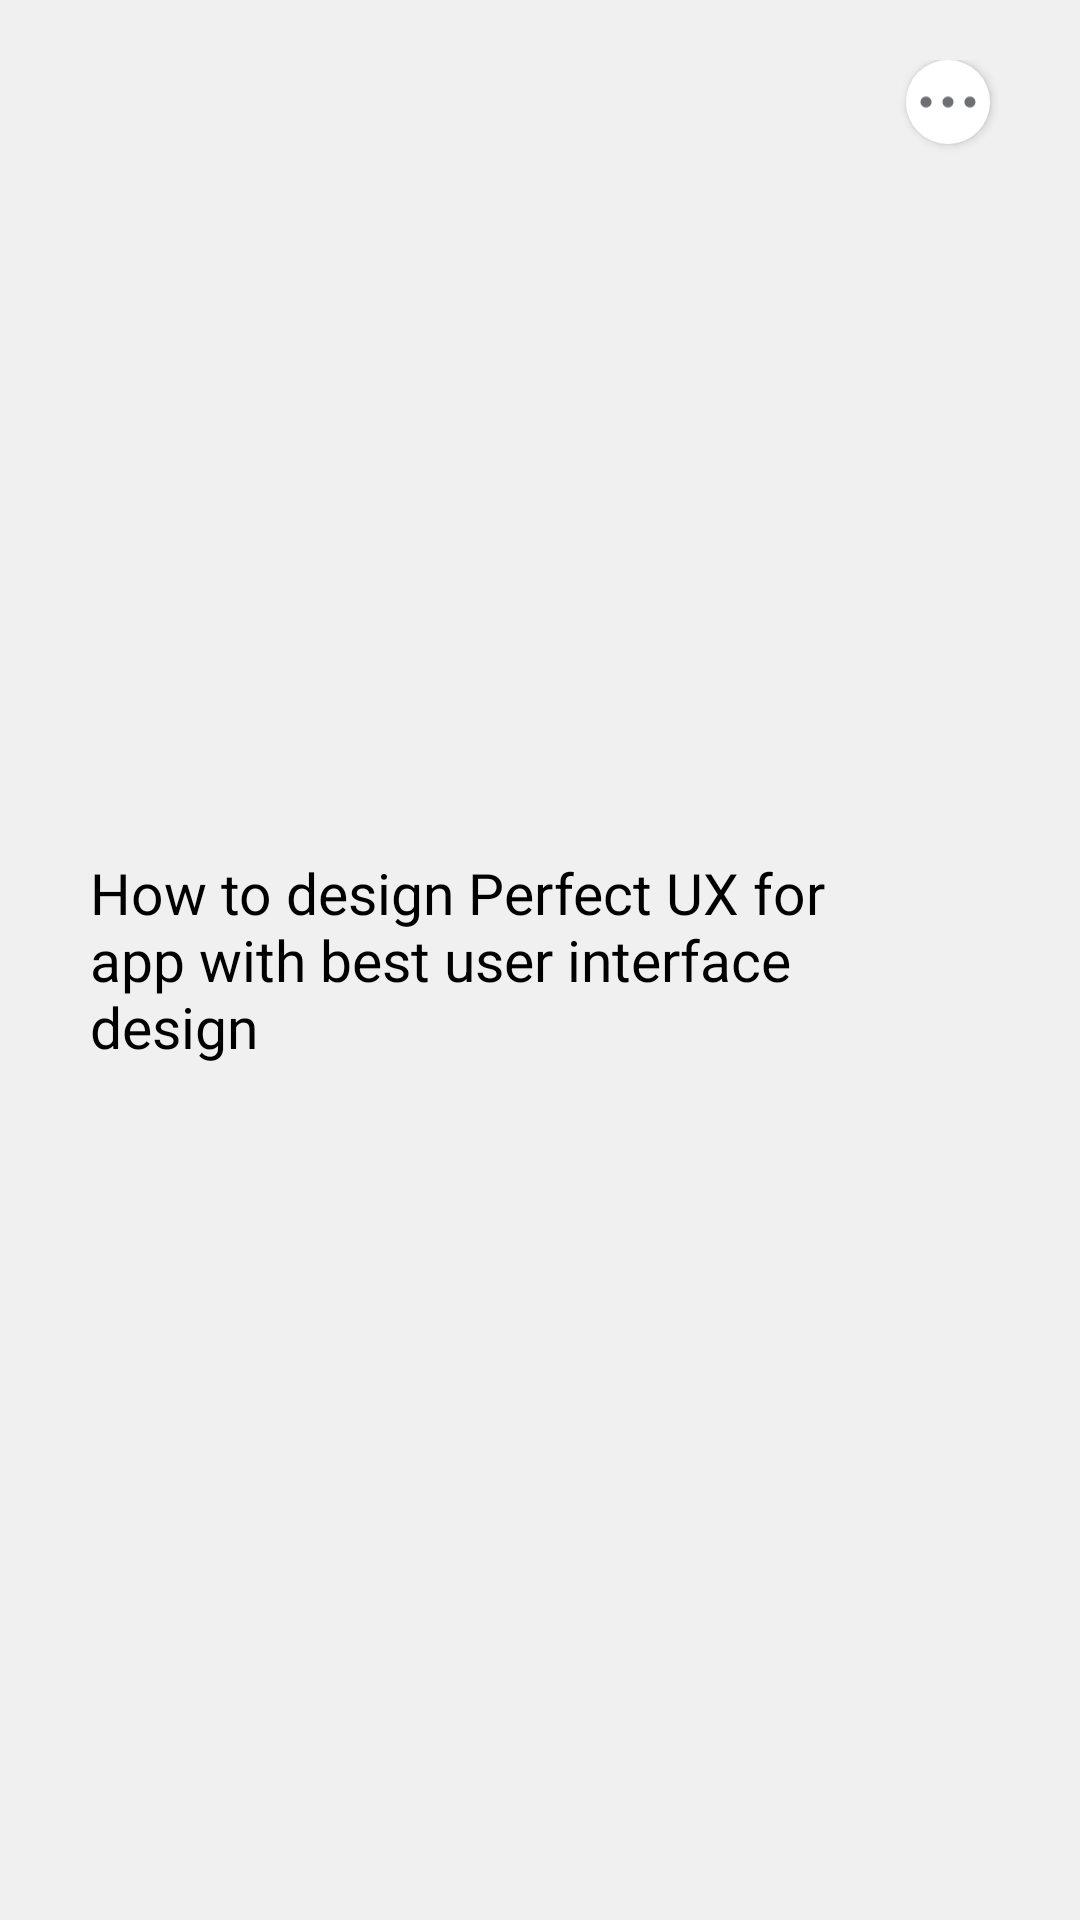

Where icons sit on this 1080*1920 app screen, as (x1, y1, x2, y2):
contextual menu: (906, 60, 990, 144)
